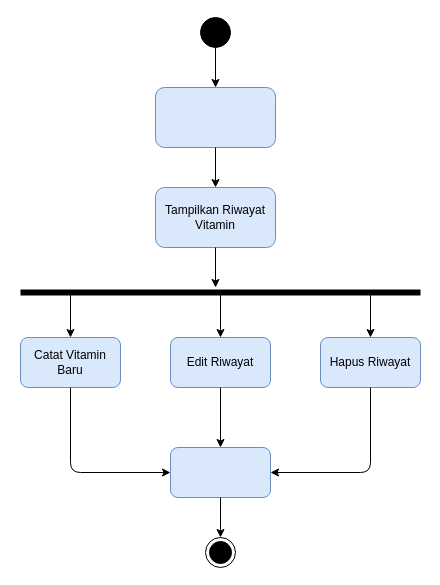
This 440x585 diagram has some shape labels left out. The centre of each missing label's shape, as x and y in pixels:
"Pilih Menu Vitamin" belongs at pixel 215 117.
"Simpan ke DB" belongs at pixel 220 472.
